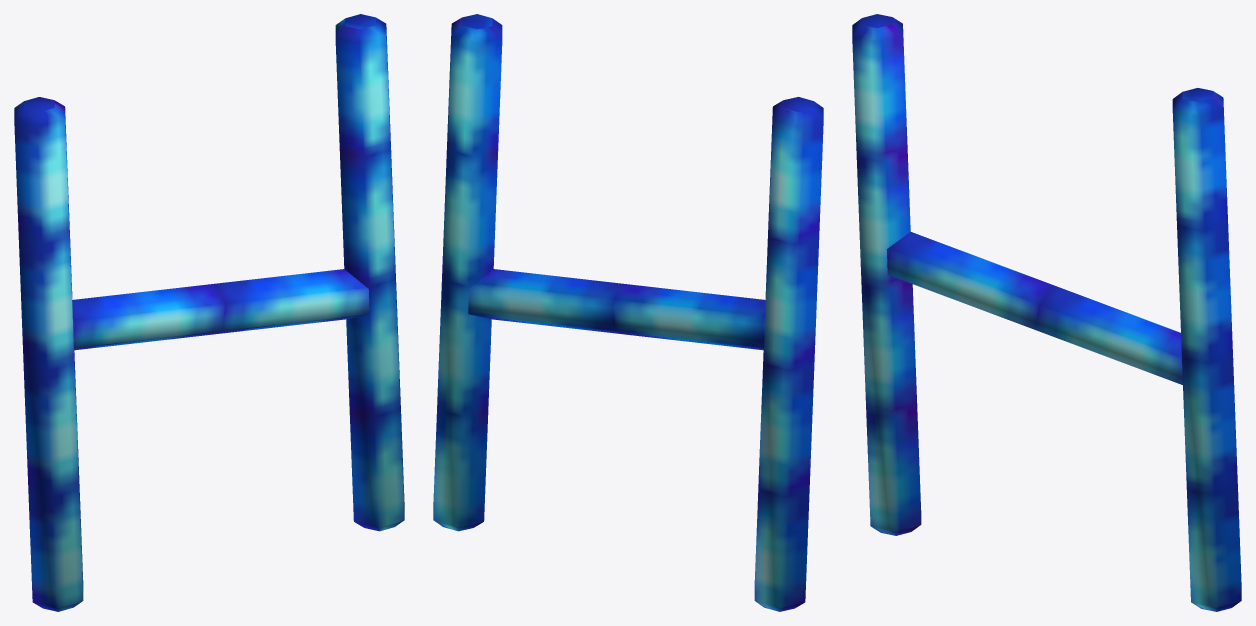
File: furni_0200166.FBX
3 renders of one model, left to right at view 1: azimuth 30°, elevation 25°; view 2: azimuth 150°, elevation 25°; view 3: azimuth 330°, elevation 25°, orthographic.
Parts seen in each view (by area): view 1: furni_0200166; view 2: furni_0200166; view 3: furni_0200166.
Boxes of the visible parts, x1=… form: furni_0200166: x1=14, y1=14, x2=404, y2=611; furni_0200166: x1=433, y1=14, x2=823, y2=611; furni_0200166: x1=852, y1=14, x2=1241, y2=611.
Bounding box in the file's own units: 44.52 × 55.56 × 5.02.
